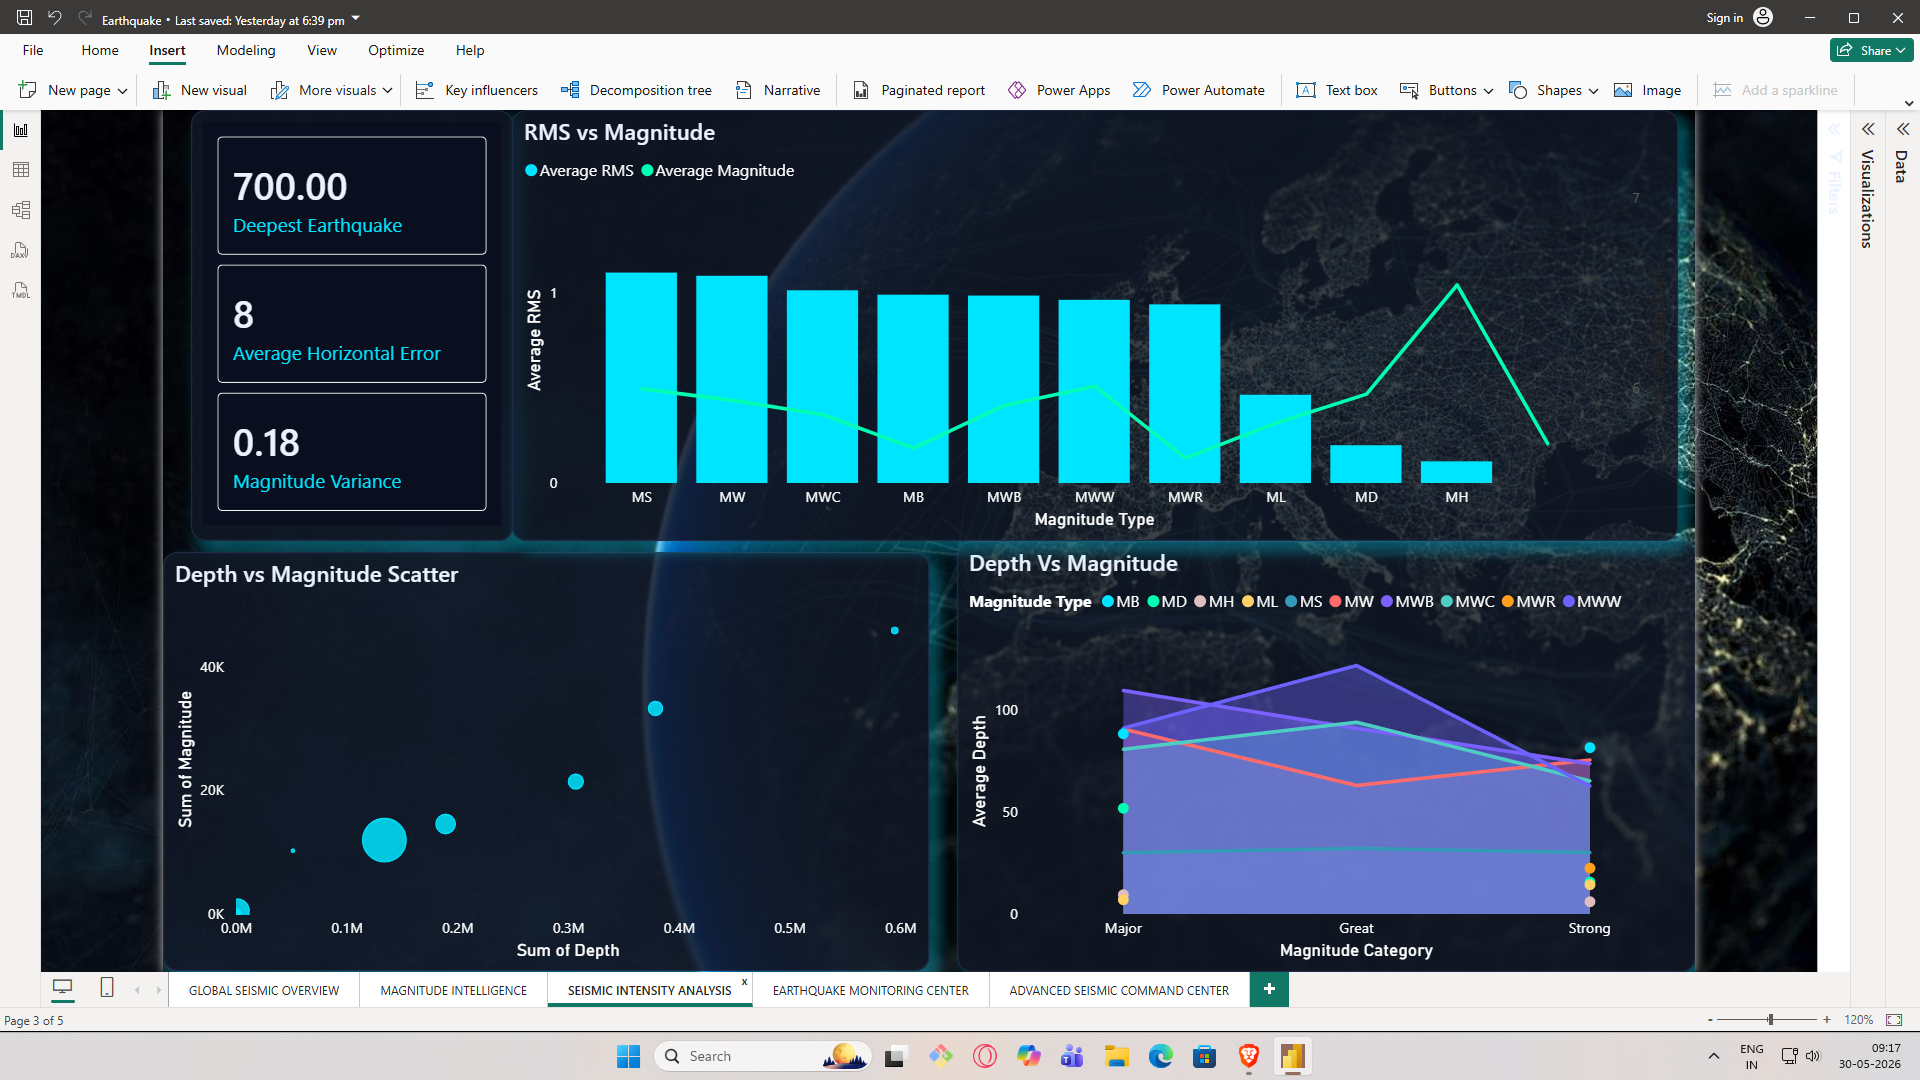

Layout of this report page (visuals, bound fields, positions):
{"tool":"powerbi","page":{"name":"SEISMIC INTENSITY ANALYSIS","canvas":[1280,720],"ordinal":2},"visuals":[{"type":"cardVisual","fields":{"Data":["earthquake.Deepest Earthquake","earthquake.Average Horizontal Error","earthquake.Magnitude Variance"]},"box":[23.3,0,269.4,359.9],"z":0},{"type":"scatterChart","title":"Depth vs Magnitude Scatter","fields":{"X":["Sum(earthquake.Depth)"],"Y":["Sum(earthquake.Magnitude)"],"Size":["Sum(earthquake.Horizontal Error)"],"Category":["earthquake.Magnitude Type"]},"box":[0,369.6,640,350.2],"z":1000},{"type":"areaChart","title":"Depth Vs Magnitude","fields":{"Category":["earthquake.Magnitude Category"],"Y":["earthquake.Average Depth"],"Series":["earthquake.Magnitude Type"]},"box":[663.3,359.9,616.7,359.9],"z":2000},{"type":"lineClusteredColumnComboChart","title":"RMS vs Magnitude","fields":{"Category":["earthquake.Magnitude Type"],"Y2":["earthquake.Average Magnitude"],"Y":["earthquake.Average RMS"]},"box":[291.8,0,973.6,359.9],"z":3000}]}

Visuals, with their boxes on the page's 1280x720 design canvas (x1, y1, x2, y2). These are canvas units, not pixel positions in the 1920x1080 screenshot, which may show the page scaled, cropped or inside an application window:
cardVisual - earthquake.Deepest Earthquake x earthquake.Average Horizontal Error: [23, 0, 293, 360]
"Depth vs Magnitude Scatter" scatterChart: [0, 370, 640, 720]
"Depth Vs Magnitude" areaChart: [663, 360, 1280, 720]
"RMS vs Magnitude" lineClusteredColumnComboChart: [292, 0, 1265, 360]
